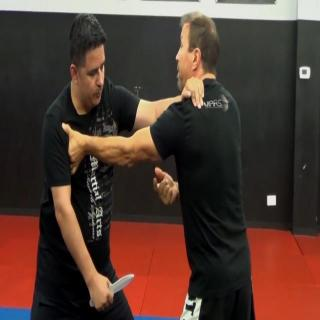knife: (89, 270, 136, 310)
